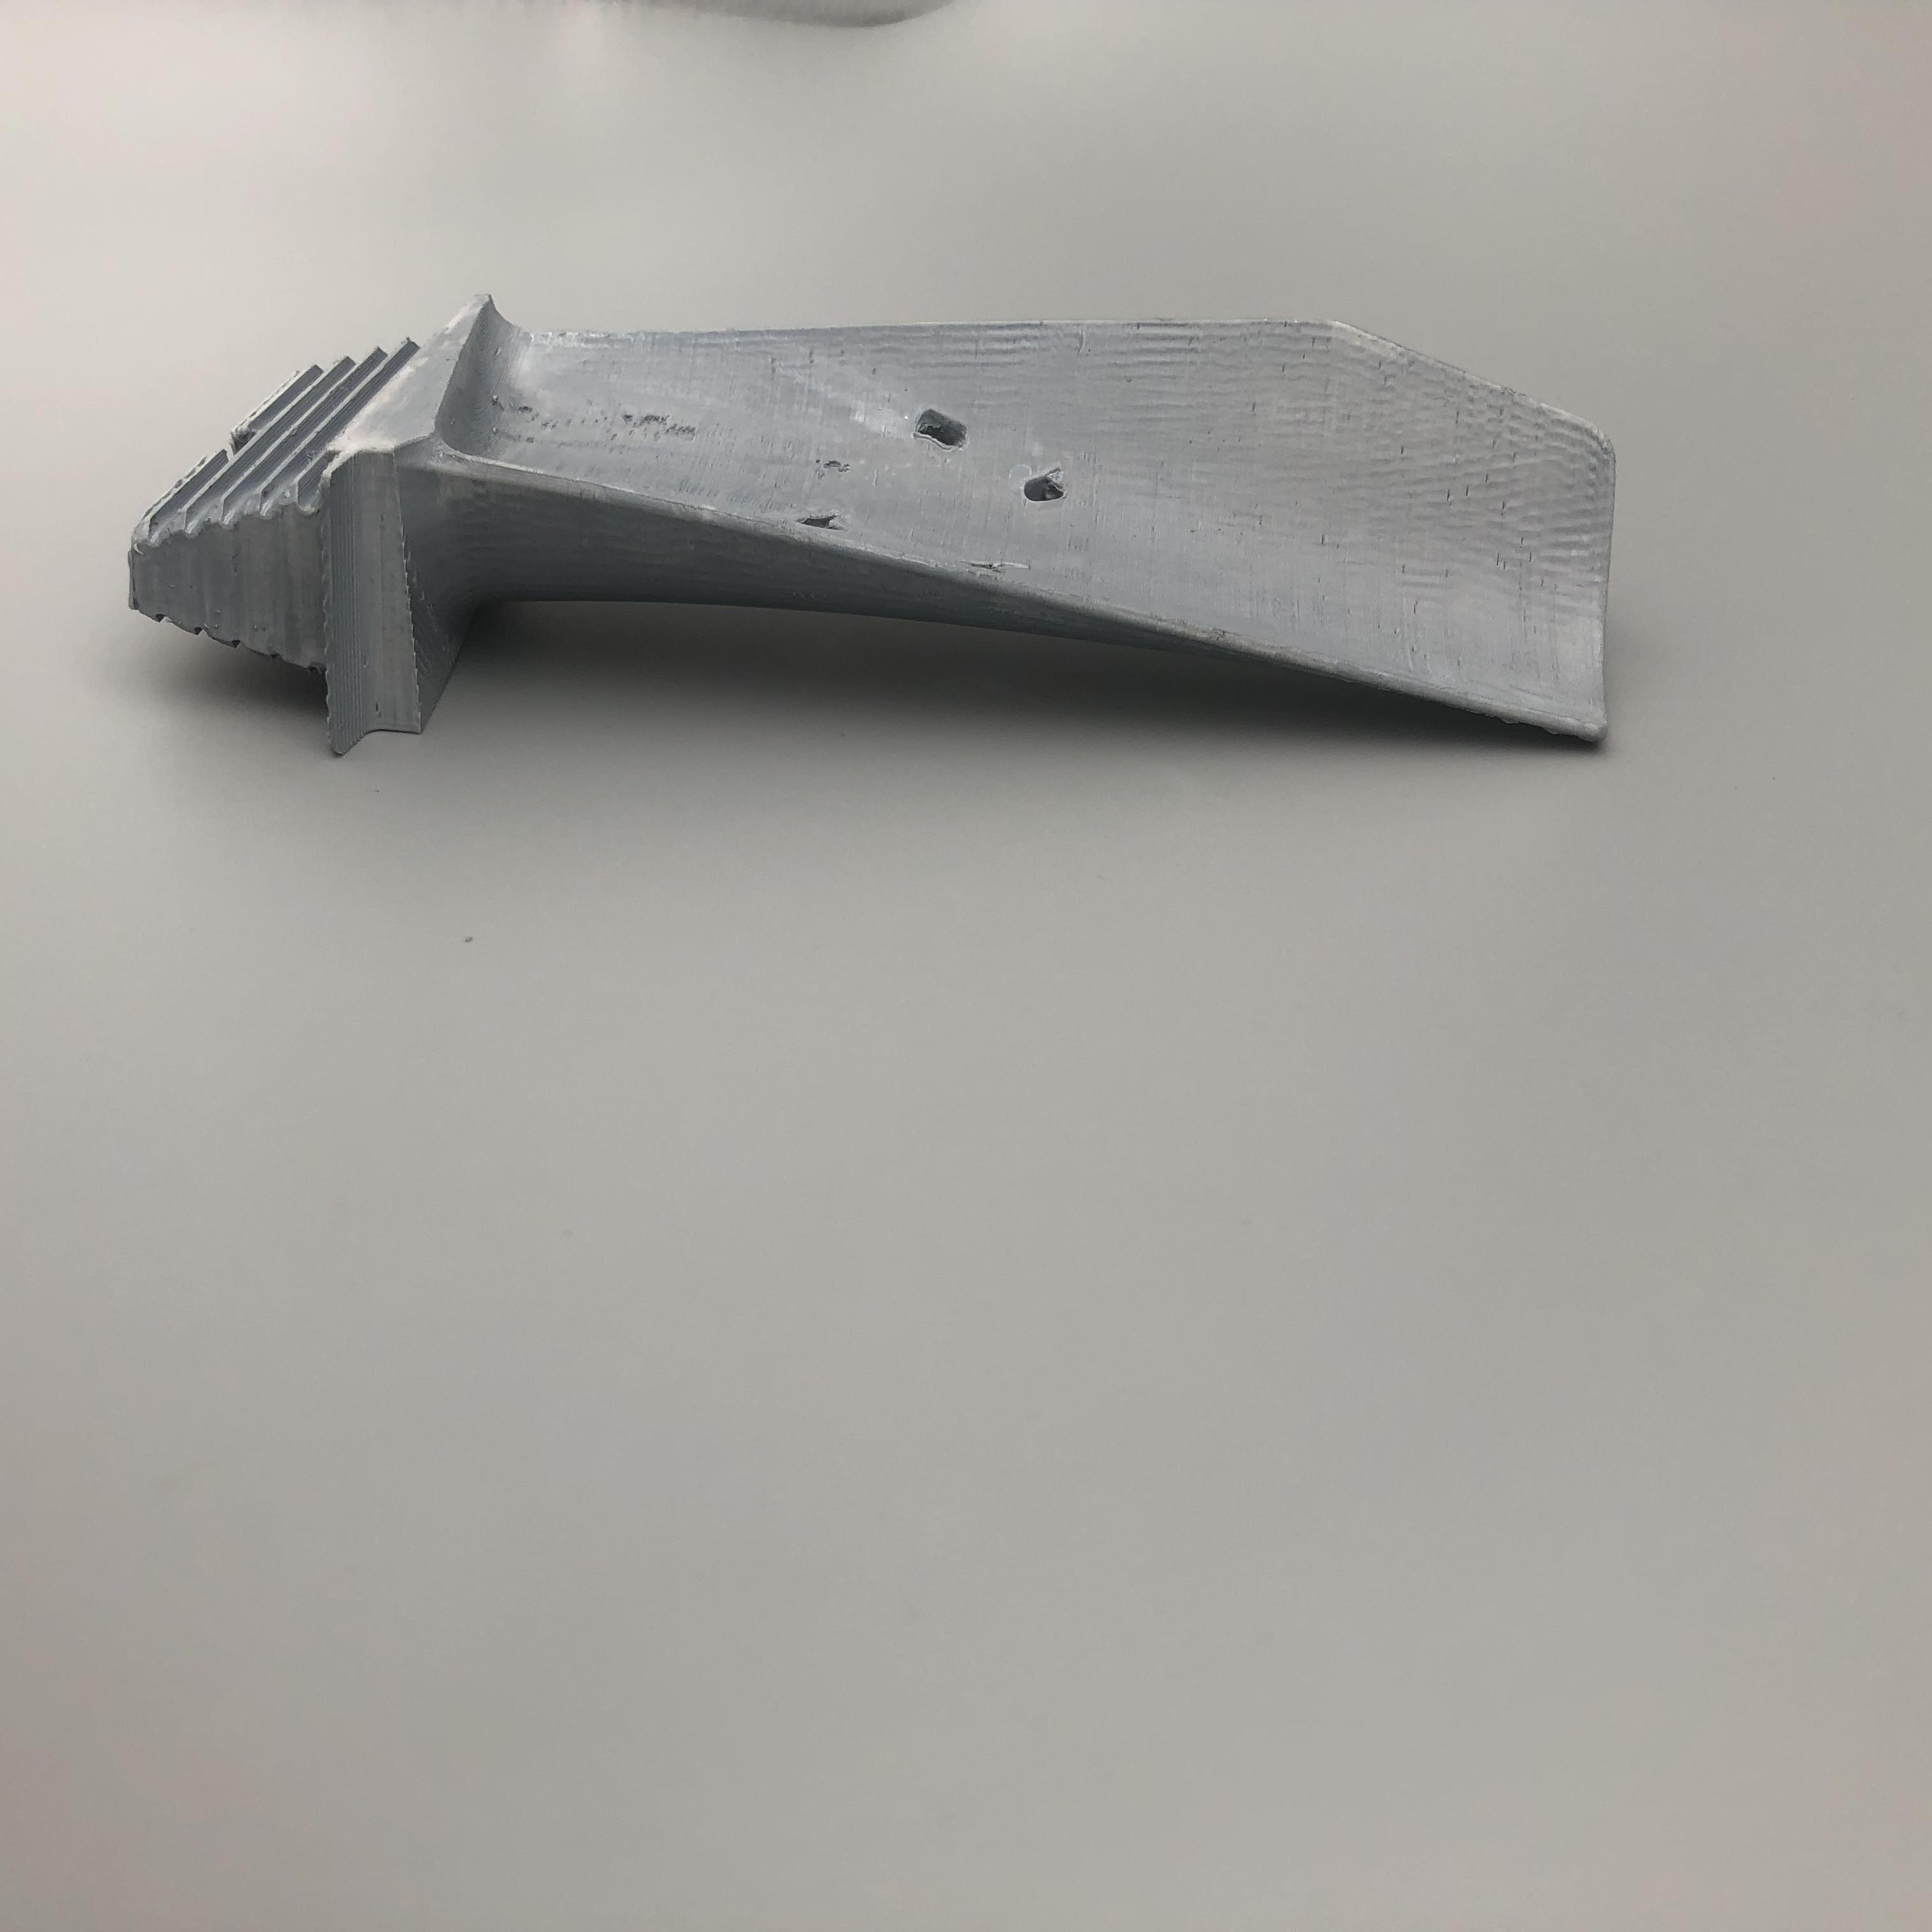breakdown: (801, 402, 1093, 587)
